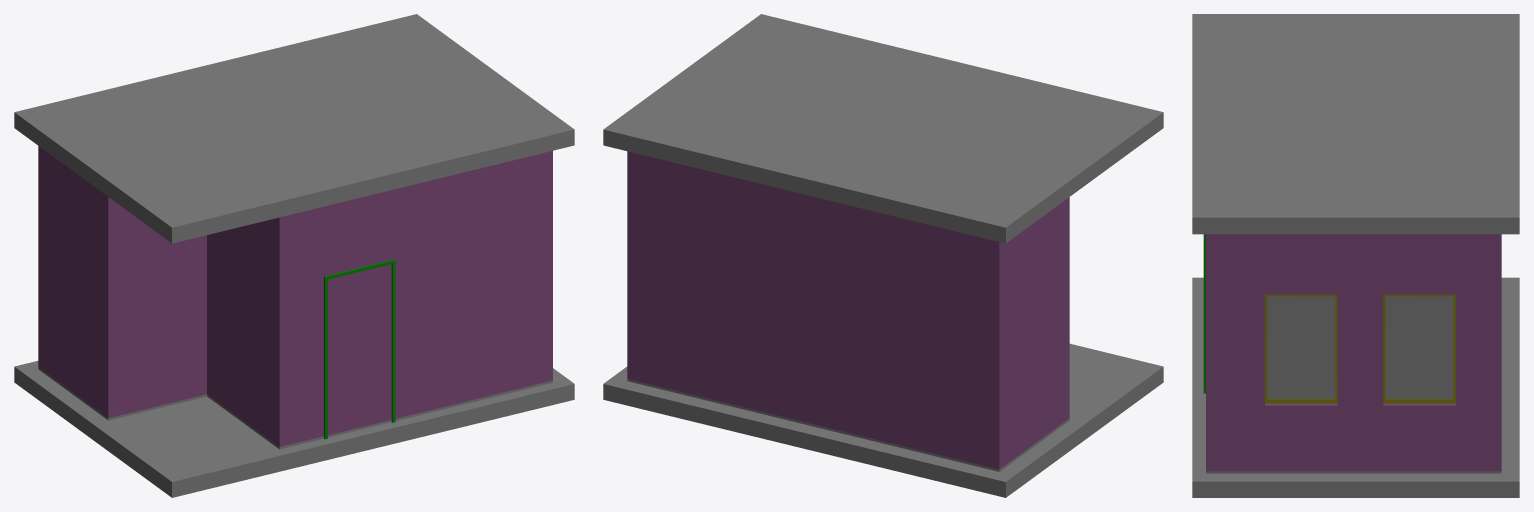
Rendered from FloorPlan329.fbx.
The picture shows the model from 3 angles, left to right: view 1: azimuth 30°, elevation 25°; view 2: azimuth 150°, elevation 25°; view 3: azimuth 270°, elevation 25°; orthographic projection. The views are drawn at different scales.
Visible parts, largest first — view 1: StandardWallSize, Ceiling, Floor, StandardDoorFrame1 (2); view 2: StandardWallSize, Ceiling, Floor; view 3: Ceiling, StandardWallSize, StandardWindow3 (2), Floor, StandardWindow3, StandardDoorFrame1 (2).
Part boxes in pixels (x1,y1,x2,y2): StandardWallSize: (38, 146, 552, 449); Ceiling: (14, 14, 574, 243); Floor: (14, 361, 574, 497); StandardDoorFrame1 (2): (324, 259, 395, 439); StandardWallSize: (627, 151, 1069, 471); Ceiling: (603, 14, 1163, 243); Floor: (603, 343, 1163, 497); Ceiling: (1192, 14, 1519, 234); StandardWallSize: (1206, 234, 1501, 473); StandardWindow3 (2): (1265, 294, 1453, 403); Floor: (1192, 277, 1519, 497); StandardWindow3: (1383, 294, 1455, 403); StandardDoorFrame1 (2): (1203, 234, 1205, 393).
Bounding box in the file's own units: 530 × 340 × 360.
